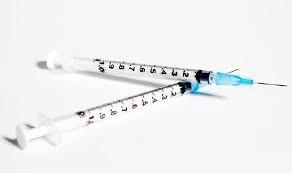Syringe: (16, 82, 197, 148), (47, 51, 285, 85)
